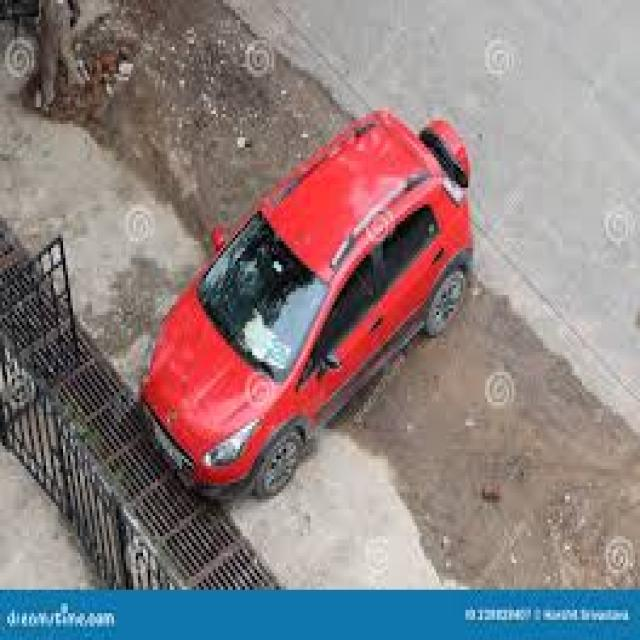red: (99, 108, 503, 494)
